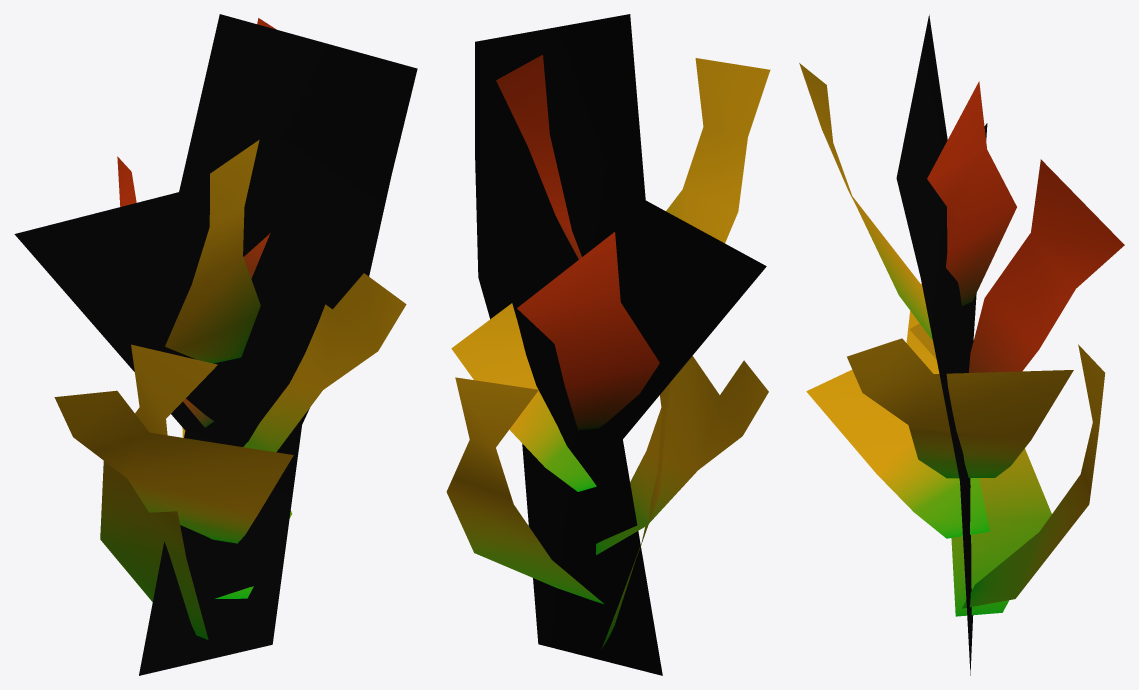
File: Var4Hi59.fbx
3 renders of one model, left to right at view 1: azimuth 30°, elevation 25°; view 2: azimuth 150°, elevation 25°; view 3: azimuth 270°, elevation 25°, orthographic. The views are drawn at different scales.
Parts seen in each view (by area): view 1: bend1; view 2: bend1; view 3: bend1.
Boxes of the visible parts, left/top/right/bottom form: bend1: left=14, top=14, right=417, bottom=675; bend1: left=446, top=14, right=770, bottom=675; bend1: left=799, top=14, right=1124, bottom=675.
Size of the model in its own units: 1.3 by 2.32 by 1.09.
